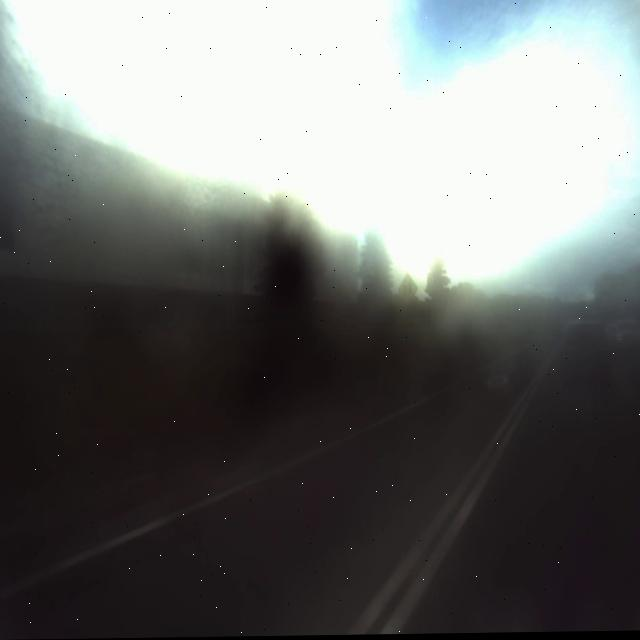car: (558, 311, 612, 389)
